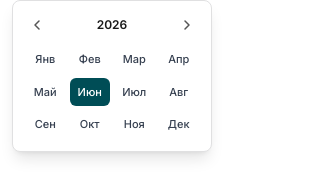
Test case: MonthYearPicker › decrements year when prev year arrow is clicked
What coordinates should you click on to do the following:
click the button named "Предыдущий год"
I would click on:
 (37, 25)
Its box is [25,13,49,37].
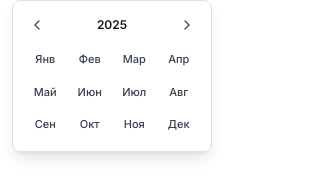
Expected: the text "2025" is shown, [97,17,127,33]
